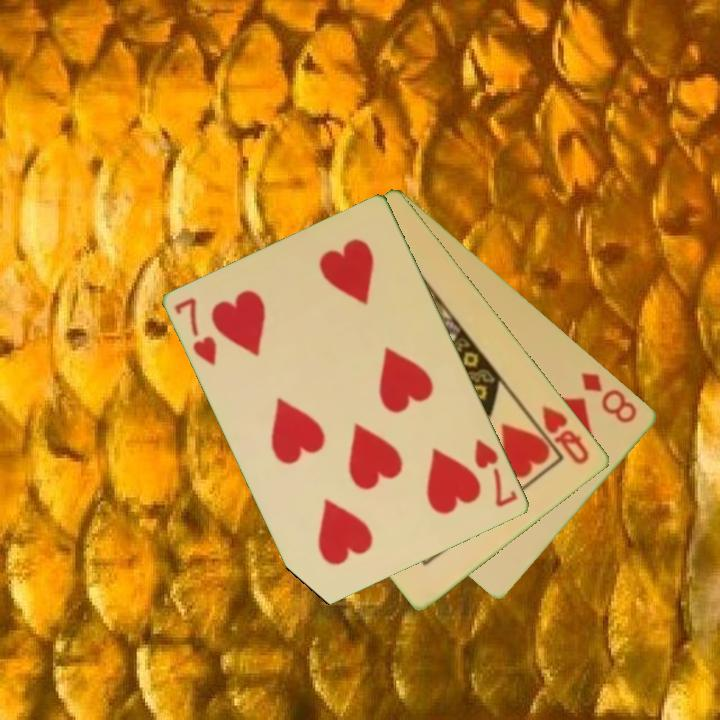7h: (471, 435, 521, 510), (171, 294, 221, 369)
8d: (577, 368, 641, 426)
Qh: (538, 402, 593, 468)
